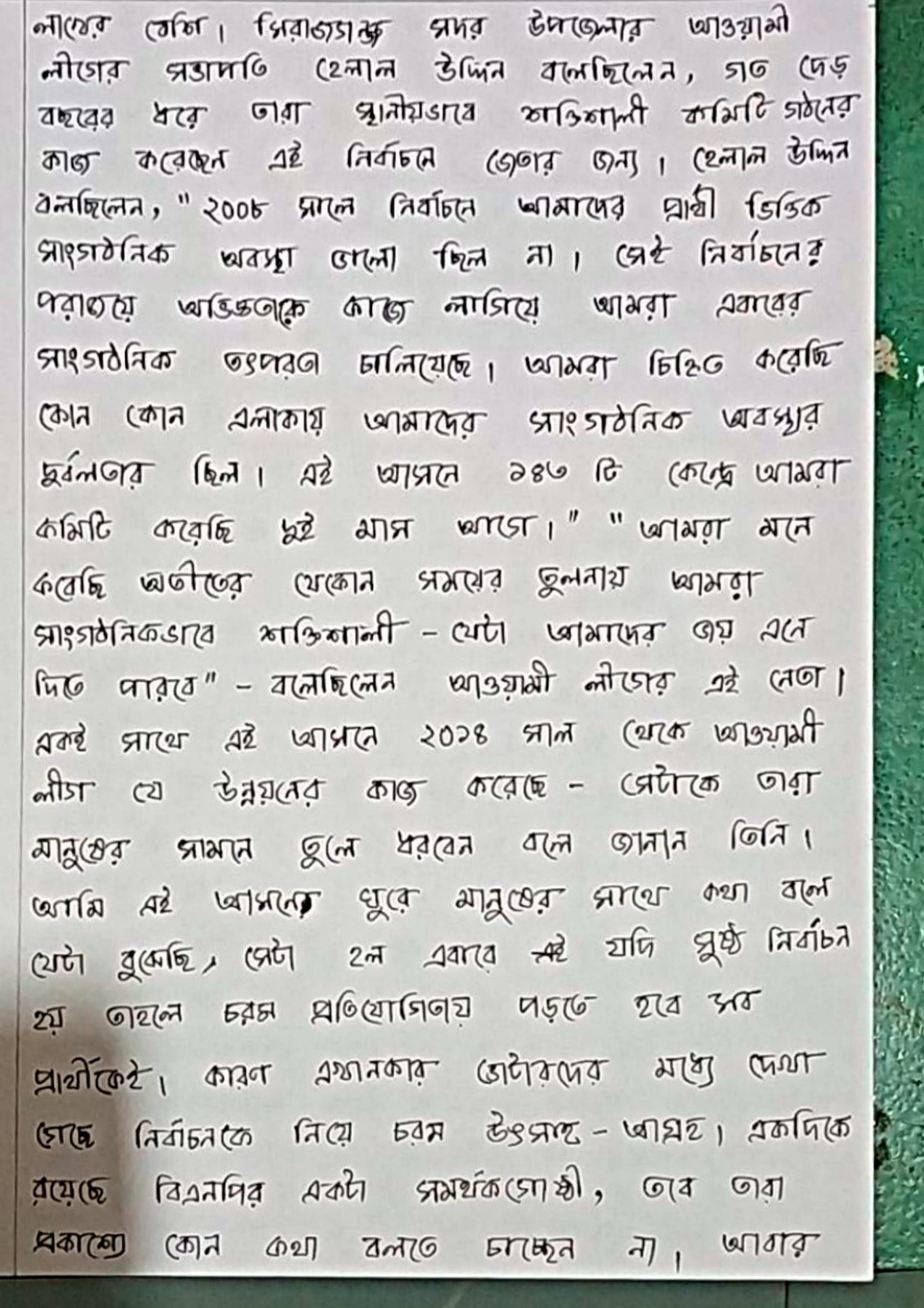line: (28, 918, 851, 985), (32, 1106, 851, 1158), (40, 447, 850, 499), (33, 1049, 827, 1102), (46, 816, 811, 870), (35, 336, 844, 385), (35, 89, 858, 137), (31, 1226, 816, 1276), (35, 709, 826, 758), (29, 875, 833, 921), (38, 182, 828, 228), (32, 988, 765, 1037), (33, 556, 765, 605), (41, 135, 847, 178), (33, 762, 822, 805), (35, 659, 845, 700), (38, 234, 823, 276), (31, 612, 816, 653), (29, 1165, 786, 1207), (40, 52, 851, 91), (34, 507, 819, 547), (34, 3, 792, 43), (41, 400, 822, 437), (36, 287, 814, 323)
